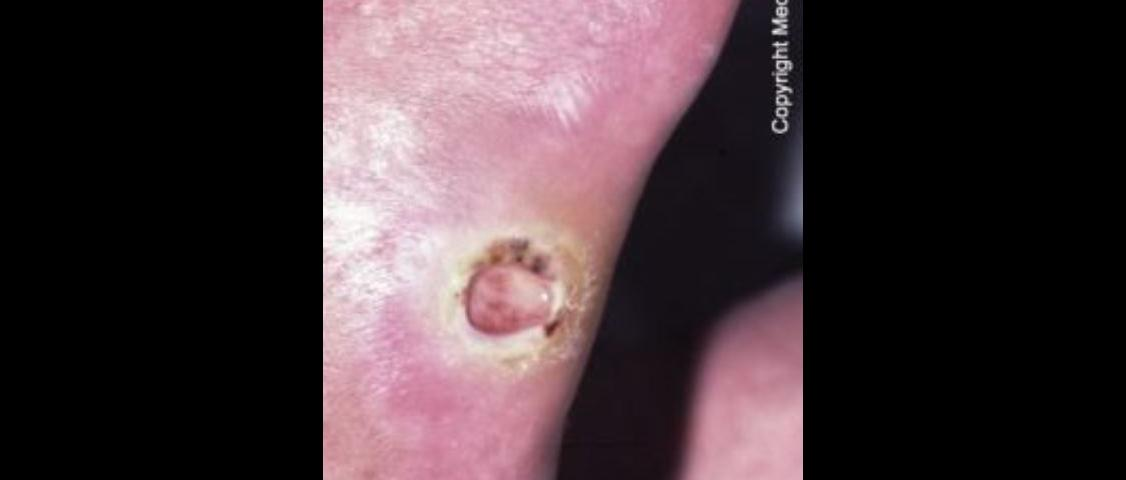Stage2: (431, 198, 585, 355)
